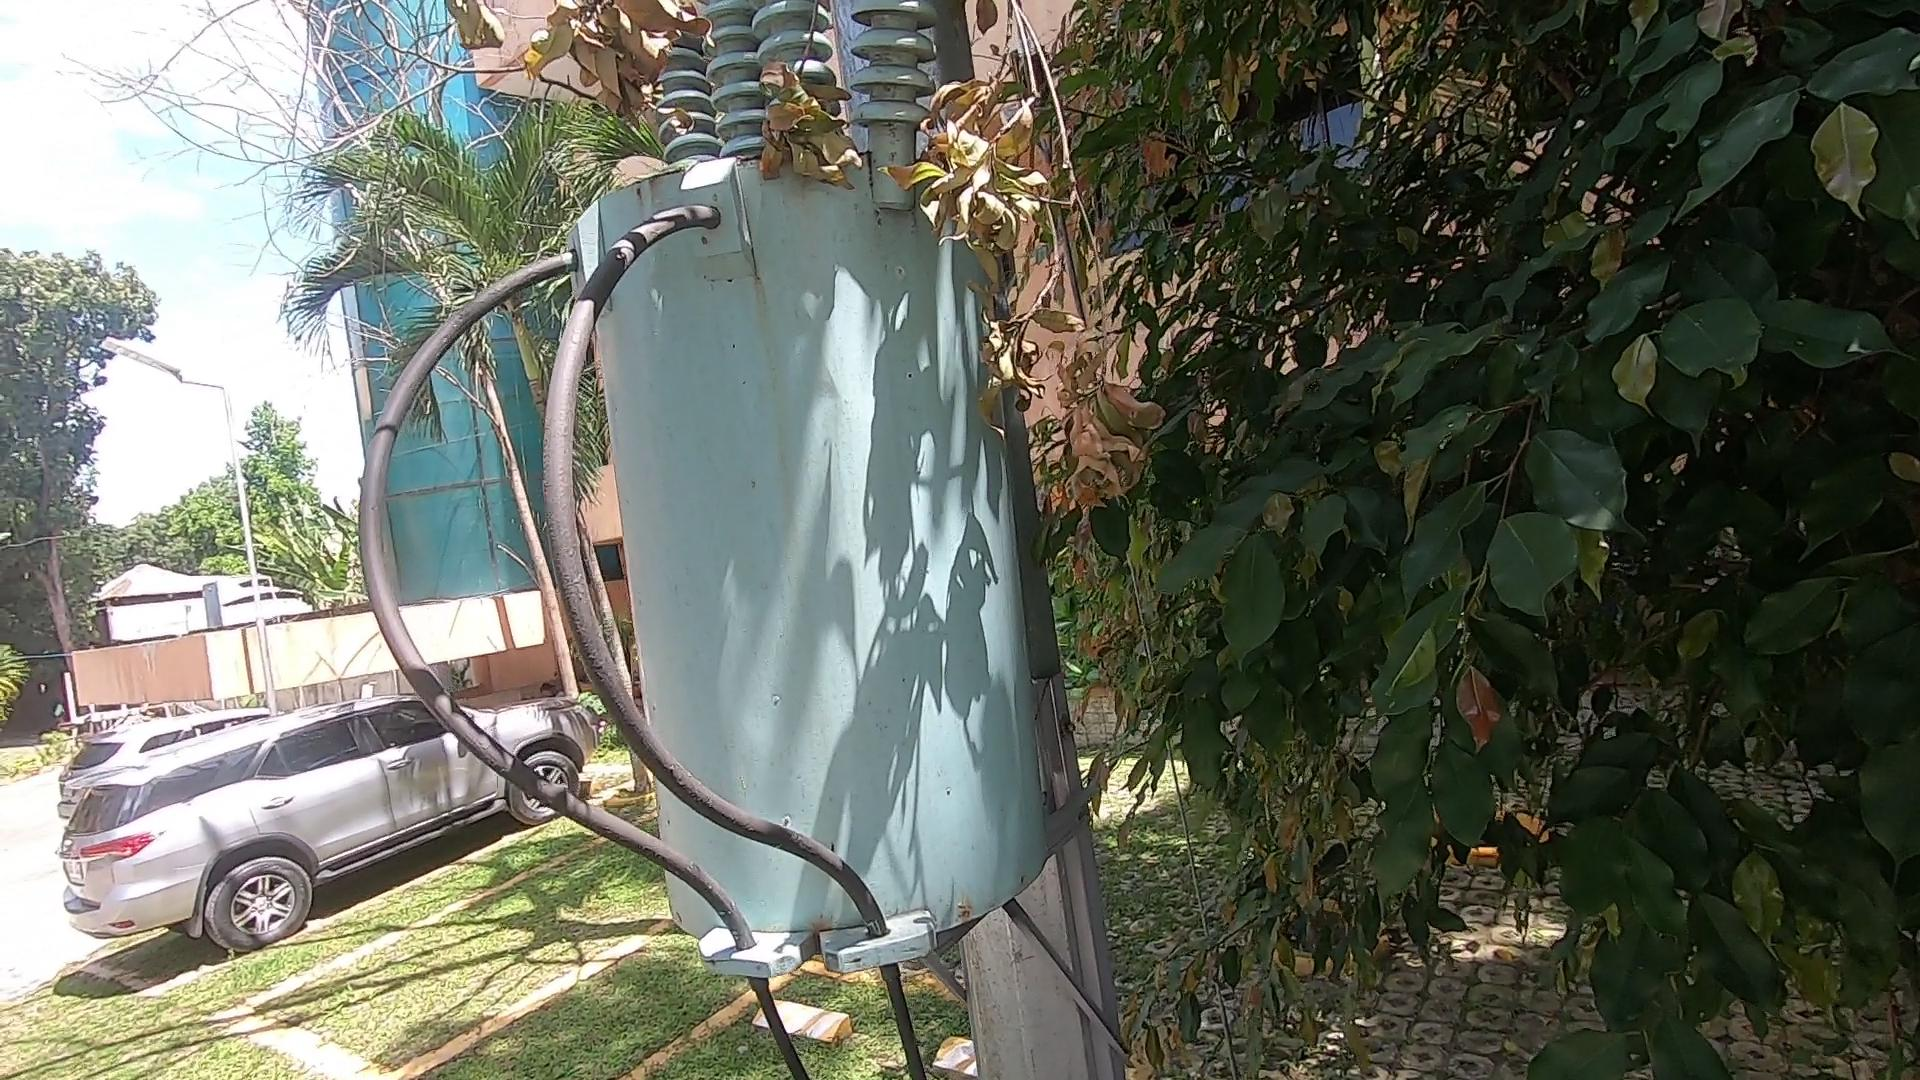branch with leaves: (913, 3, 1168, 531), (425, 1, 735, 116), (741, 1, 881, 202)
leaf: (640, 150, 720, 196)
